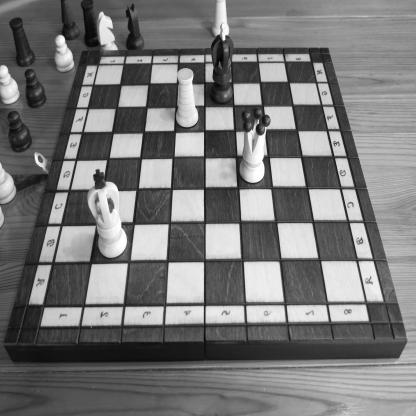black-bishop: (61, 0, 80, 39)
black-king: (210, 21, 234, 104)
black-knight: (126, 1, 144, 50)
black-pawn: (7, 110, 33, 154), (24, 68, 48, 110)
black-rook: (10, 17, 36, 68), (79, 0, 100, 47)
white-king: (86, 168, 128, 260)
white-knight: (96, 10, 118, 50)
white-pawn: (0, 64, 21, 104), (54, 34, 74, 73), (1, 161, 17, 205)
white-queen: (239, 107, 271, 184)
white-rook: (175, 67, 199, 128), (211, 0, 231, 40)
